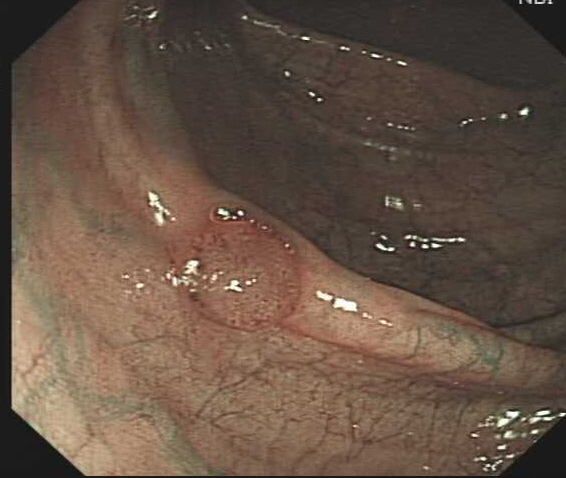adenoma: (167, 219, 306, 334)
